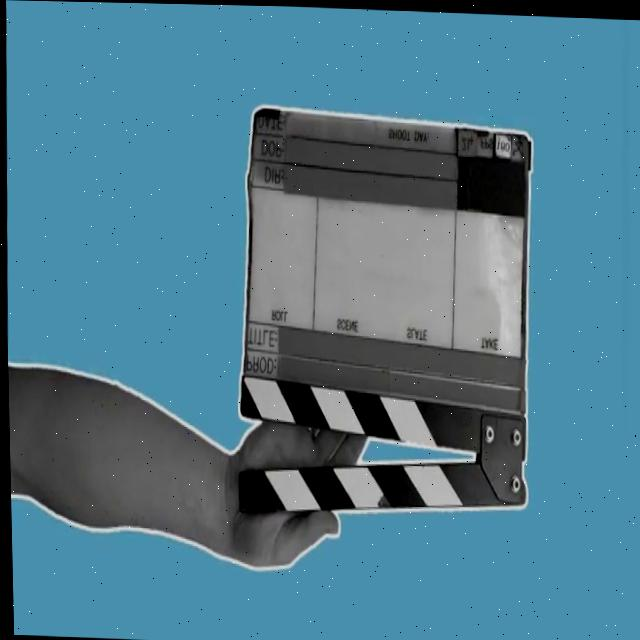Clapperboard: (227, 101, 547, 526)
